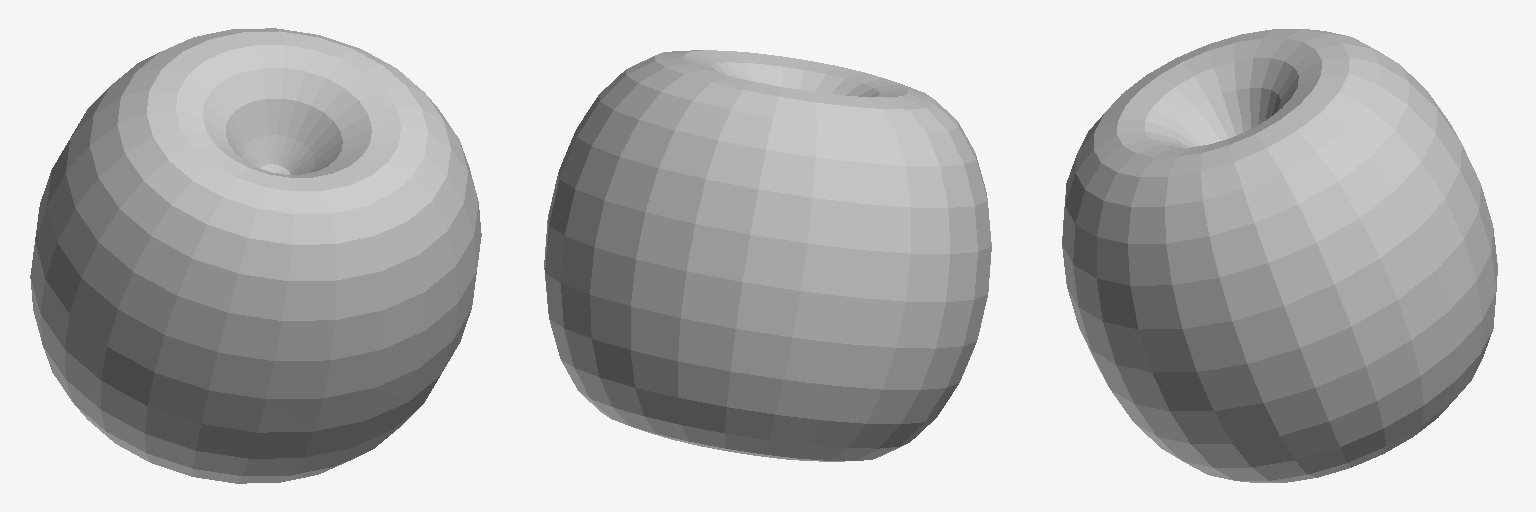
The model's file is 1Anthro butthole.obj.
3 renders of one model, left to right at view 1: azimuth 30°, elevation 25°; view 2: azimuth 150°, elevation 25°; view 3: azimuth 270°, elevation 25°, orthographic.
Visible parts, largest first — view 1: vag_base.002_Mesh1_Component_4_1_Component_6_1_Model.009; view 2: vag_base.002_Mesh1_Component_4_1_Component_6_1_Model.009; view 3: vag_base.002_Mesh1_Component_4_1_Component_6_1_Model.009.
Boxes of the visible parts, x1,y1,x2,y2 form: vag_base.002_Mesh1_Component_4_1_Component_6_1_Model.009: [30, 28, 481, 483]; vag_base.002_Mesh1_Component_4_1_Component_6_1_Model.009: [544, 50, 991, 461]; vag_base.002_Mesh1_Component_4_1_Component_6_1_Model.009: [1062, 29, 1497, 482].
Size of the model in its own units: 1.07 by 1.01 by 1.03.